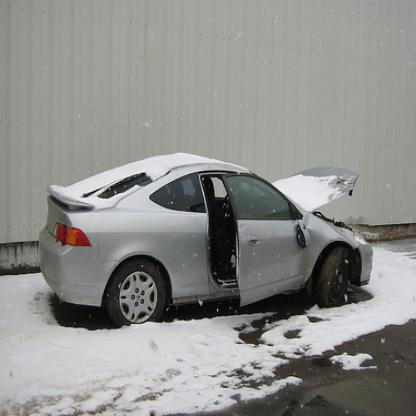car: (38, 150, 376, 331)
